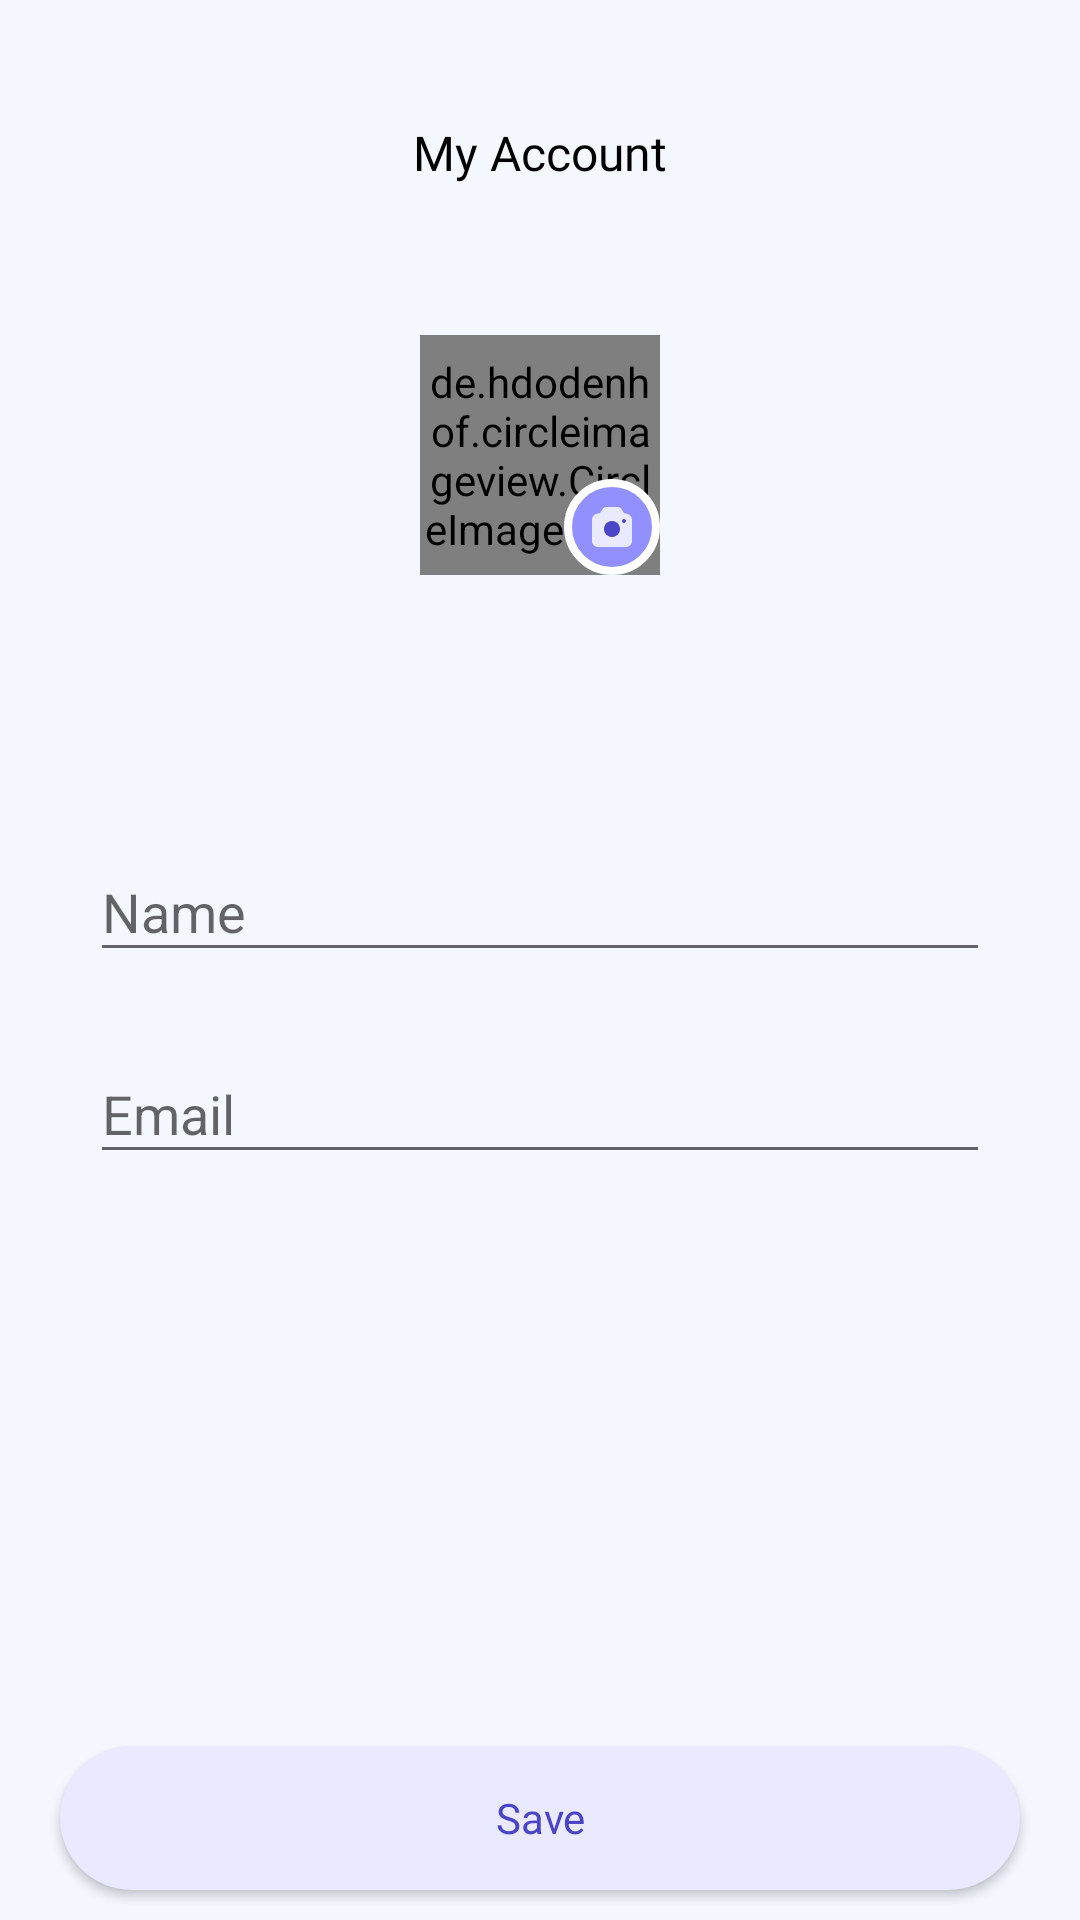

Icons on this 1080 x 1920 Android screen, each with the point to tap as (x=x, y=y):
photo: (x=612, y=527)
